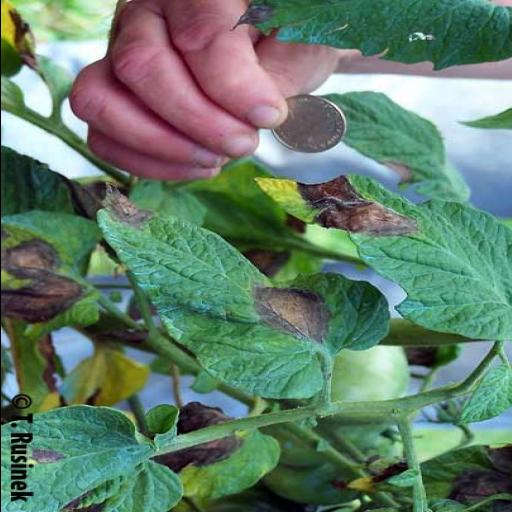Late Blight: (87, 177, 393, 401), (249, 174, 508, 342), (0, 402, 186, 512)
